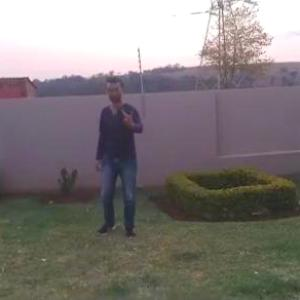takeoff-hand: (115, 100, 145, 136)
